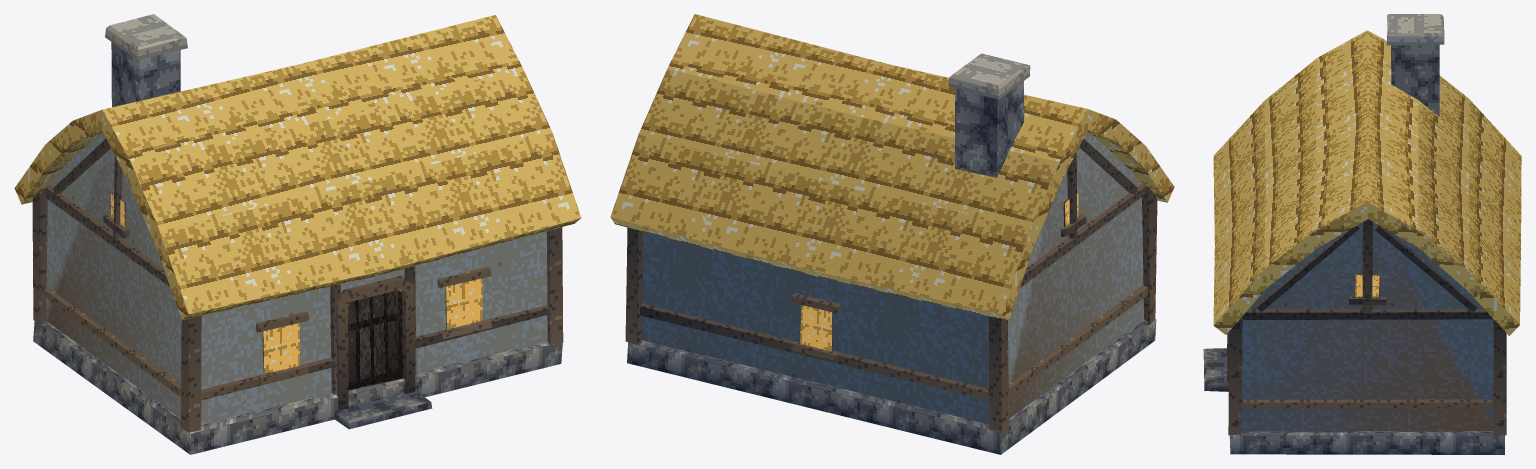
File: vlg.cottage.glb
3 views of the same model, side by side, from view 1: azimuth 30°, elevation 25°; view 2: azimuth 150°, elevation 25°; view 3: azimuth 270°, elevation 25° (orthographic). The views are drawn at different scales.
Parts seen in each view (by area): view 1: kit_roof, kit_walls, kit_stonework, kit_fittings, kit_frame; view 2: kit_roof, kit_walls, kit_stonework, kit_frame, kit_fittings; view 3: kit_roof, kit_walls, kit_frame, kit_stonework, kit_fittings.
Part boxes in pixels (bbox=[...]): kit_roof: bbox=[14, 15, 581, 319]; kit_walls: bbox=[46, 133, 547, 424]; kit_stonework: bbox=[33, 14, 562, 454]; kit_fittings: bbox=[103, 192, 492, 429]; kit_frame: bbox=[32, 138, 563, 432]; kit_roof: bbox=[610, 14, 1174, 320]; kit_walls: bbox=[642, 133, 1143, 423]; kit_stonework: bbox=[627, 53, 1156, 454]; kit_frame: bbox=[625, 138, 1157, 432]; kit_fittings: bbox=[791, 192, 1086, 360]; kit_roof: bbox=[1213, 30, 1521, 335]; kit_walls: bbox=[1241, 222, 1493, 431]; kit_frame: bbox=[1228, 219, 1506, 435]; kit_stonework: bbox=[1229, 14, 1504, 454]; kit_fittings: bbox=[1203, 274, 1386, 391].
Bounding box in the file's own units: 7.57 × 6.13 × 5.95.
8 materials, 8 textured.
